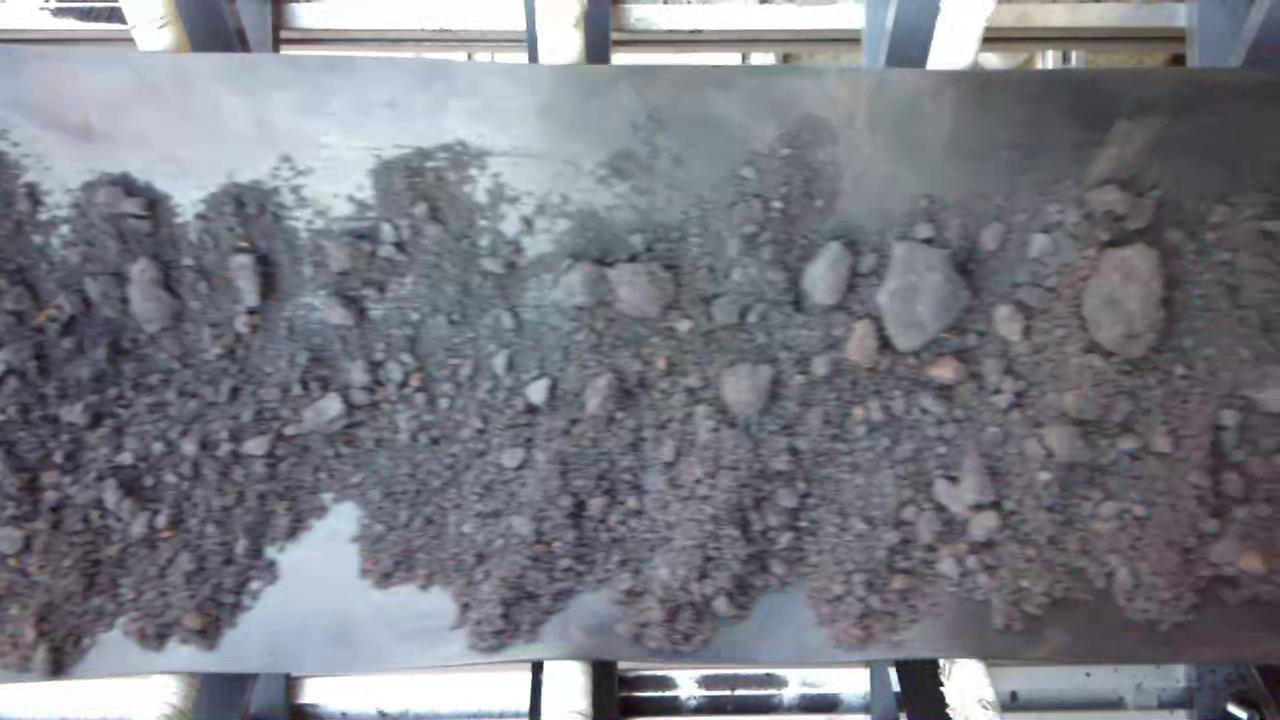conveyor: (5, 80, 1272, 649)
